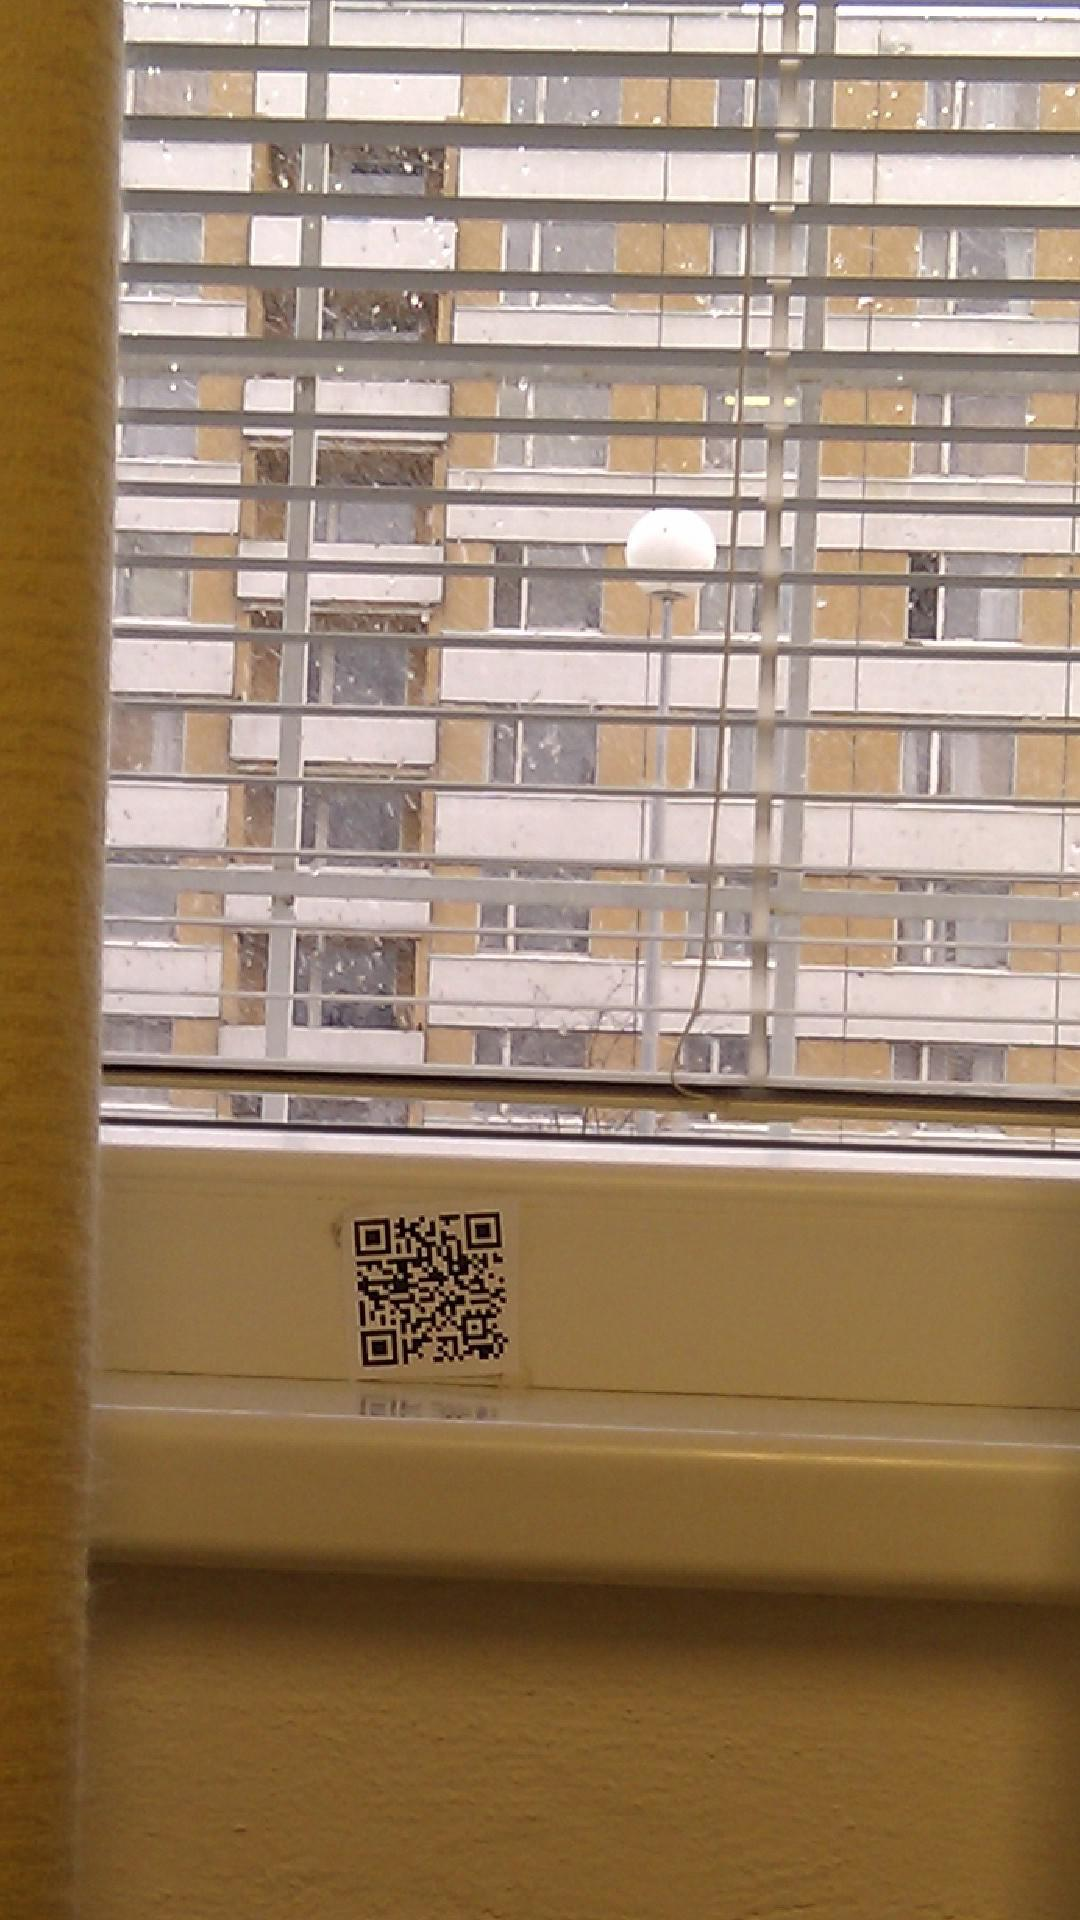Finder pattern: (351, 1207, 393, 1257), (361, 1331, 407, 1373), (462, 1207, 502, 1250)
